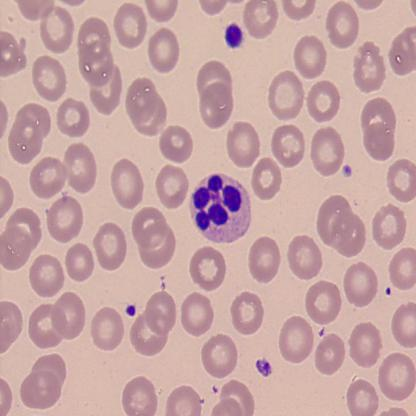Segmented neutrophil: (189, 170, 254, 246)
